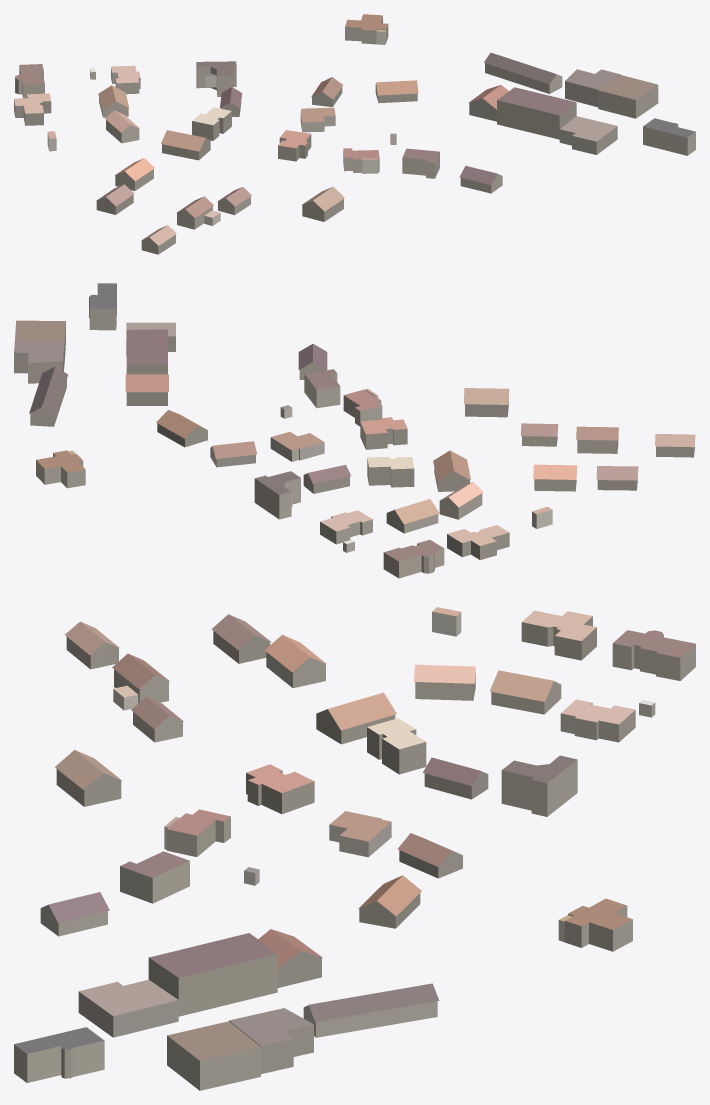
The picture shows the model from 3 angles, top to bottom: view 1: azimuth 30°, elevation 25°; view 2: azimuth 150°, elevation 25°; view 3: azimuth 270°, elevation 25°; orthographic projection. The views are drawn at different scales.
Parts seen in each view (by area): view 1: tuile; view 2: tuile; view 3: tuile.
Boxes of the visible parts, x1,y1,x2,y2 form: tuile: (14, 14, 695, 254); tuile: (14, 283, 695, 578); tuile: (14, 607, 695, 1090).
Bounding box in the file's own units: 255 × 20.65 × 171.
